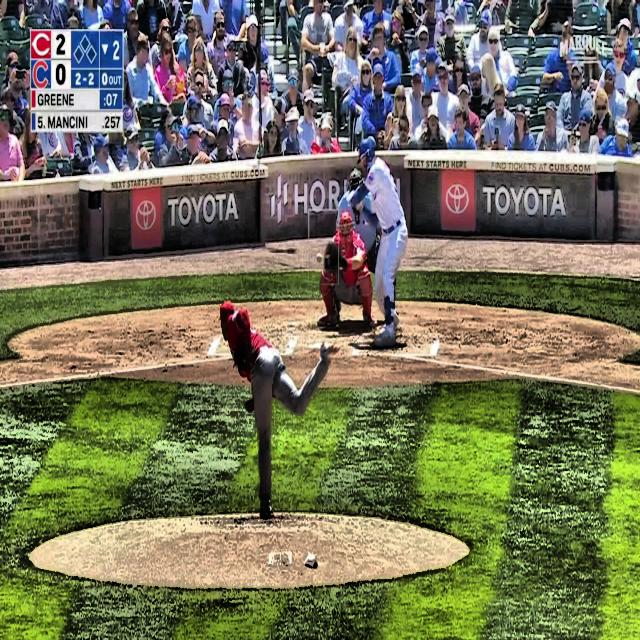baseball: (316, 252, 322, 264)
